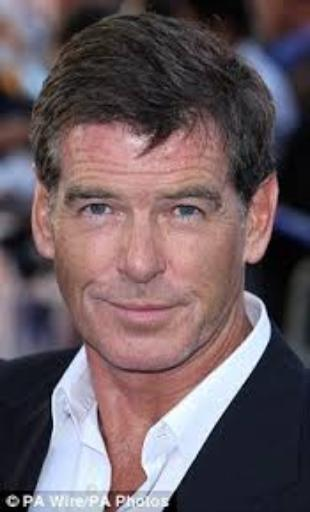left_eye: (163, 202, 208, 226)
left_lip_corner: (179, 299, 196, 317)
right_eye: (75, 199, 125, 225)
right_lip_corner: (94, 295, 119, 313)
